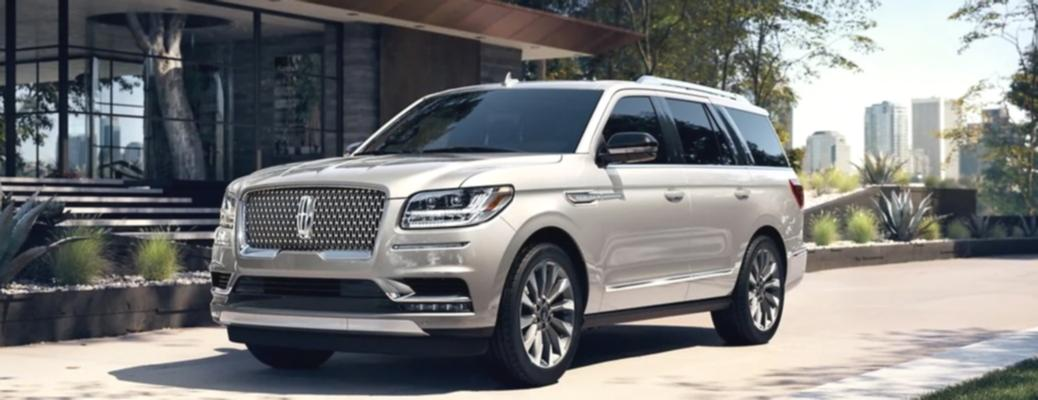lincoln: (293, 191, 316, 242)
